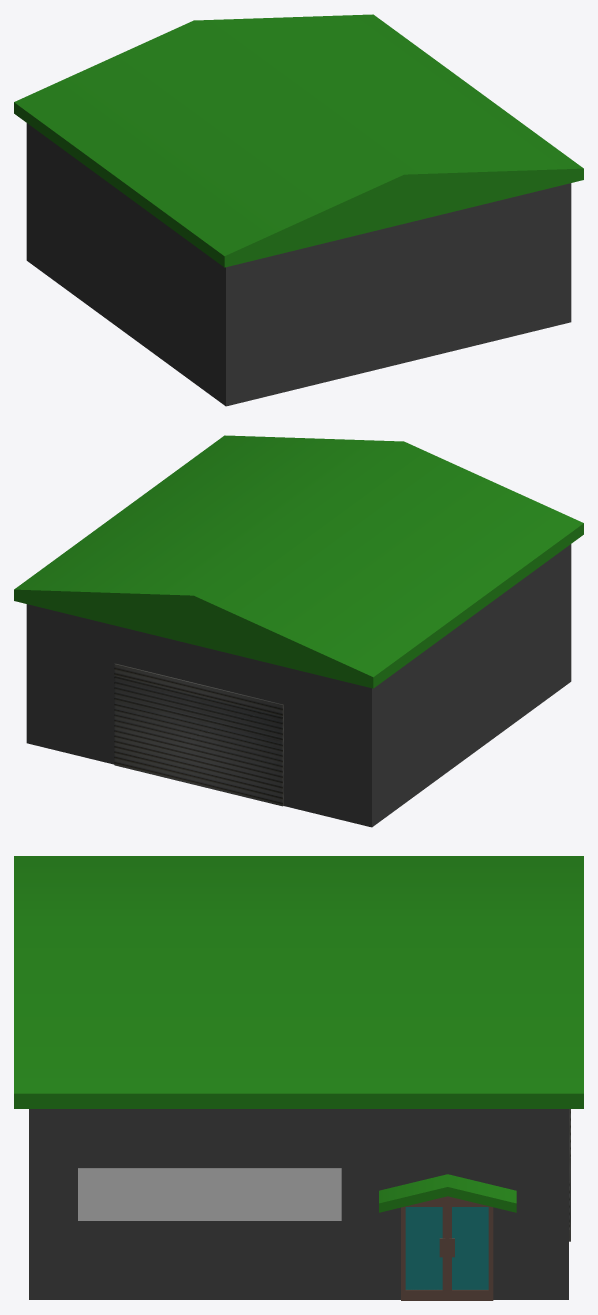
File: Building_Studio_Mod_01.fbx
3 renders of one model, top to bottom at view 1: azimuth 30°, elevation 25°; view 2: azimuth 150°, elevation 25°; view 3: azimuth 270°, elevation 25°, orthographic. The views are drawn at different scales.
Parts seen in each view (by area): view 1: Studio; view 2: Studio; view 3: Studio, Door51, Door50.
Boxes of the visible parts, x1,y1,x2,y2 form: Studio: (14, 14, 583, 406); Studio: (14, 435, 583, 827); Studio: (14, 856, 583, 1299); Door51: (447, 1196, 493, 1300); Door50: (401, 1196, 447, 1300).
Bounding box in the file's own units: 10.76 × 5.36 × 10.56.
